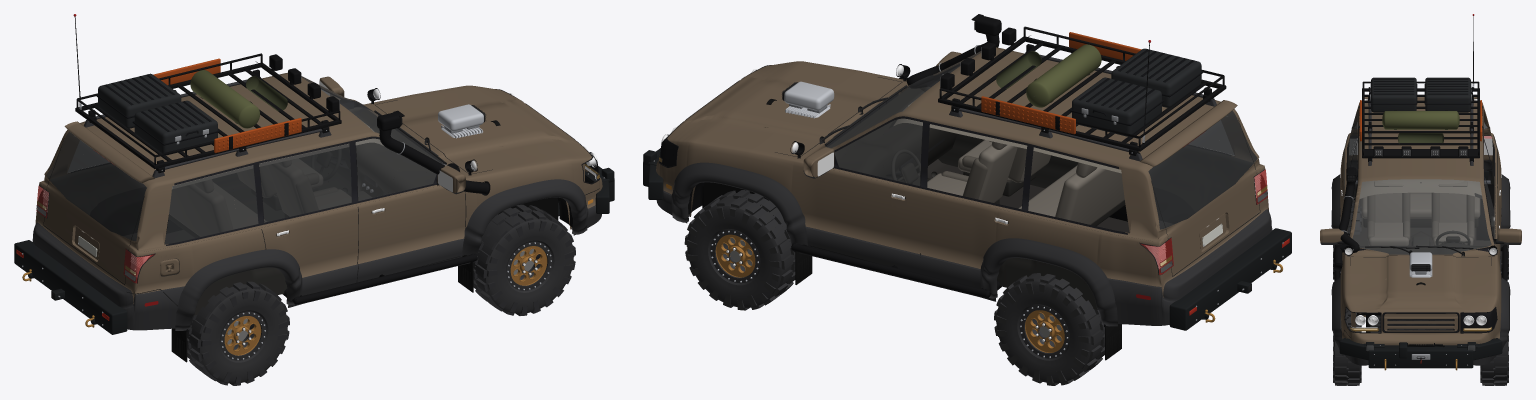
The model's file is suv-rockmud_studio.glb.
3 renders of one model, left to right at view 1: azimuth 30°, elevation 25°; view 2: azimuth 150°, elevation 25°; view 3: azimuth 270°, elevation 25°, orthographic. The views are drawn at different scales.
Visible parts, largest first — view 1: body, hood, wheel_fr, wheel_rr, bay, lamp_tail; view 2: body, hood, wheel_fl, wheel_rl, bay, lamp_tail; view 3: body, hood, bay, wheel_fr, wheel_fl, lamp_head, wheel_rr.
Part boxes in pixels (bbox=[...]): body: bbox=[14, 17, 614, 362]; hood: bbox=[374, 87, 589, 174]; wheel_fr: bbox=[473, 204, 575, 315]; wheel_rr: bbox=[187, 281, 289, 385]; bay: bbox=[377, 104, 584, 229]; lamp_tail: bbox=[36, 14, 158, 306]; body: bbox=[643, 14, 1291, 360]; hood: bbox=[669, 63, 902, 157]; wheel_fl: bbox=[684, 190, 795, 310]; wheel_rl: bbox=[994, 273, 1104, 385]; bay: bbox=[689, 81, 899, 216]; lamp_tail: bbox=[1136, 40, 1267, 299]; body: bbox=[1320, 16, 1521, 370]; hood: bbox=[1350, 255, 1491, 313]; bay: bbox=[1351, 252, 1452, 332]; wheel_fr: bbox=[1333, 308, 1361, 385]; wheel_fl: bbox=[1480, 332, 1508, 385]; lamp_head: bbox=[1345, 150, 1496, 350]; wheel_rr: bbox=[1333, 203, 1361, 279].
Bounding box in the file's own units: 5.43 × 3.1 × 2.38.
